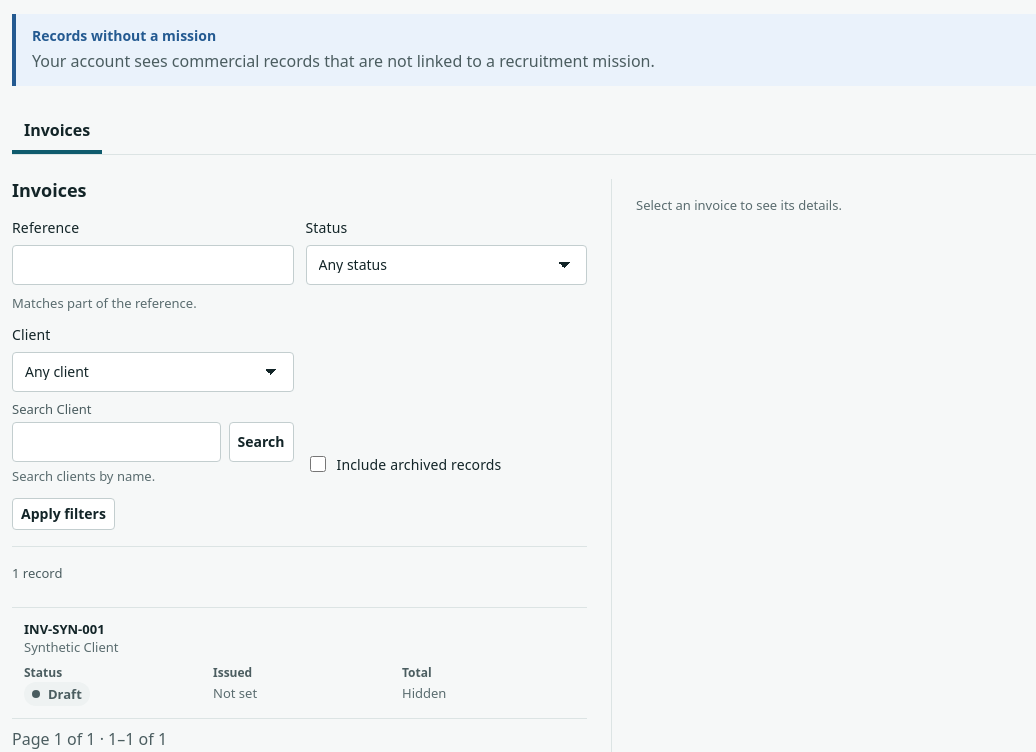
CommercialPanel: personas and permissions › shows a limited account only its record type, without amounts or linked references
(page scrolled)
Check: the buttons read "Invoices", in this order, box [12,110,102,154]
Check: the text "Hidden" is shown, box [402,684,446,702]
Click the button "INV-SYN-001": x=64, y=629 [24,620,105,638]
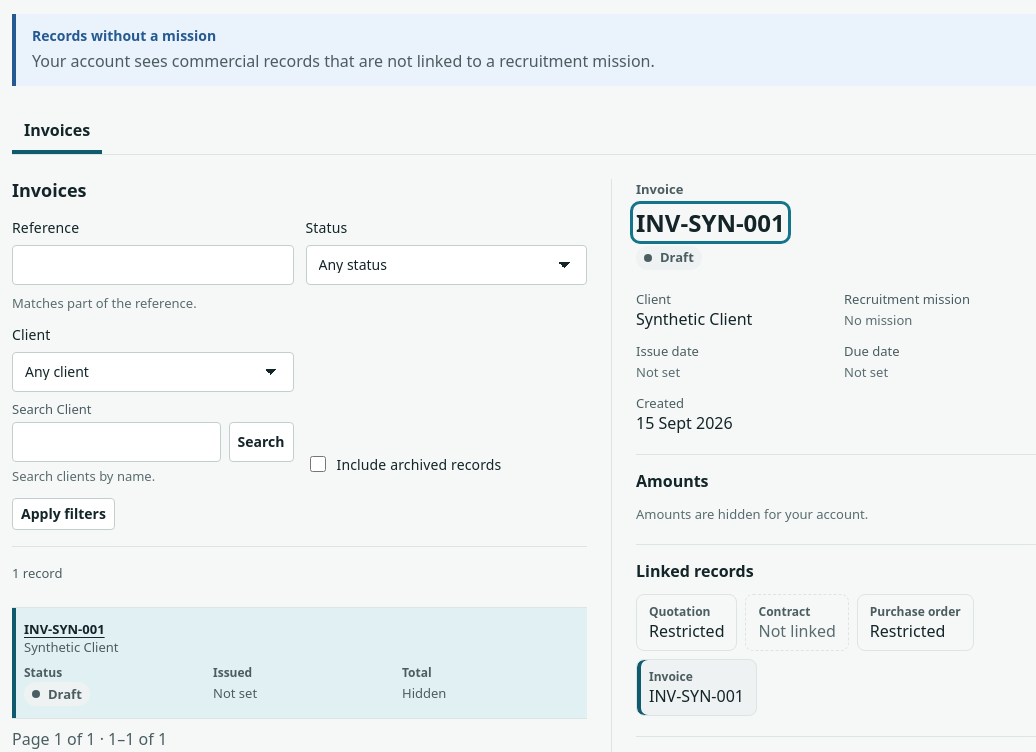
Check: the heading "INV-SYN-001" is shown, box [636,207,785,238]
Check: the text "Amounts are hidden for your account." is shown, box [636,505,868,523]
Check: the text "Restricted" is shown 2 times, box [649,620,724,642]; [870,620,945,642]
